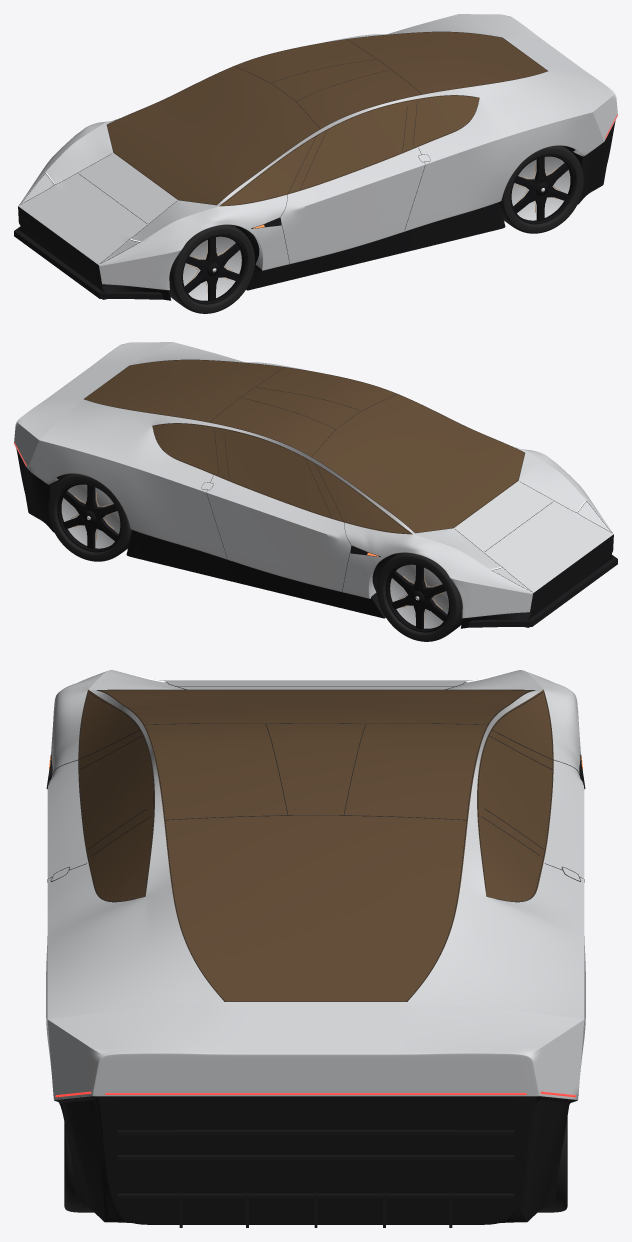
Rendered from wedge_car.glb.
3 renders of one model, top to bottom at view 1: azimuth 30°, elevation 25°; view 2: azimuth 150°, elevation 25°; view 3: azimuth 270°, elevation 25°, orthographic. The views are drawn at different scales.
Parts seen in each view (by area): view 1: Body, Tyre.001, Tyre.003, RimDisc.003, RimDisc.001, PanelLines_Top, Spokes.003, Spokes.001, FrontSplitter, PanelLines_Side, RimLip.001, RimLip.003; view 2: Body, Tyre.002, Tyre.004, RimDisc.004, RimDisc.002, PanelLines_Top, Spokes.004, Spokes.002, FrontSplitter, PanelLines_Side, RimLip.002, RimLip.004; view 3: Body, PanelLines_Top, DiffuserTier, DiffuserTier.001, DiffuserTier.002, PanelLines_Side, TailLamp, Tyre.004, Tyre.003.
Boxes of the visible parts, x1,y1,x2,y2 form: Body: (18, 14, 617, 300); Tyre.001: (169, 224, 254, 313); Tyre.003: (500, 145, 583, 233); RimDisc.003: (511, 156, 570, 220); RimDisc.001: (183, 236, 241, 300); PanelLines_Top: (19, 31, 547, 263); Spokes.003: (513, 157, 569, 221); Spokes.001: (184, 237, 240, 301); FrontSplitter: (14, 226, 162, 299); PanelLines_Side: (222, 95, 478, 263); RimLip.001: (182, 235, 246, 304); RimLip.003: (510, 155, 574, 224); Body: (14, 342, 613, 628); Tyre.002: (377, 552, 462, 641); Tyre.004: (48, 473, 132, 561); RimDisc.004: (61, 484, 120, 548); RimDisc.002: (390, 564, 448, 628); PanelLines_Top: (84, 359, 612, 591); Spokes.004: (62, 485, 118, 549); Spokes.002: (391, 565, 447, 629); FrontSplitter: (469, 555, 617, 627); PanelLines_Side: (153, 423, 409, 591); RimLip.002: (385, 563, 449, 632); RimLip.004: (57, 483, 121, 552); Body: (46, 670, 585, 1224); PanelLines_Top: (97, 682, 534, 1001); DiffuserTier: (117, 1130, 514, 1135); DiffuserTier.001: (117, 1155, 514, 1160); DiffuserTier.002: (117, 1193, 514, 1198); PanelLines_Side: (47, 692, 584, 902); TailLamp: (55, 1091, 575, 1097); Tyre.004: (538, 1117, 567, 1212); Tyre.003: (64, 1122, 93, 1212).
Bounding box in the file's own units: 4.77 × 1.34 × 2.2.
